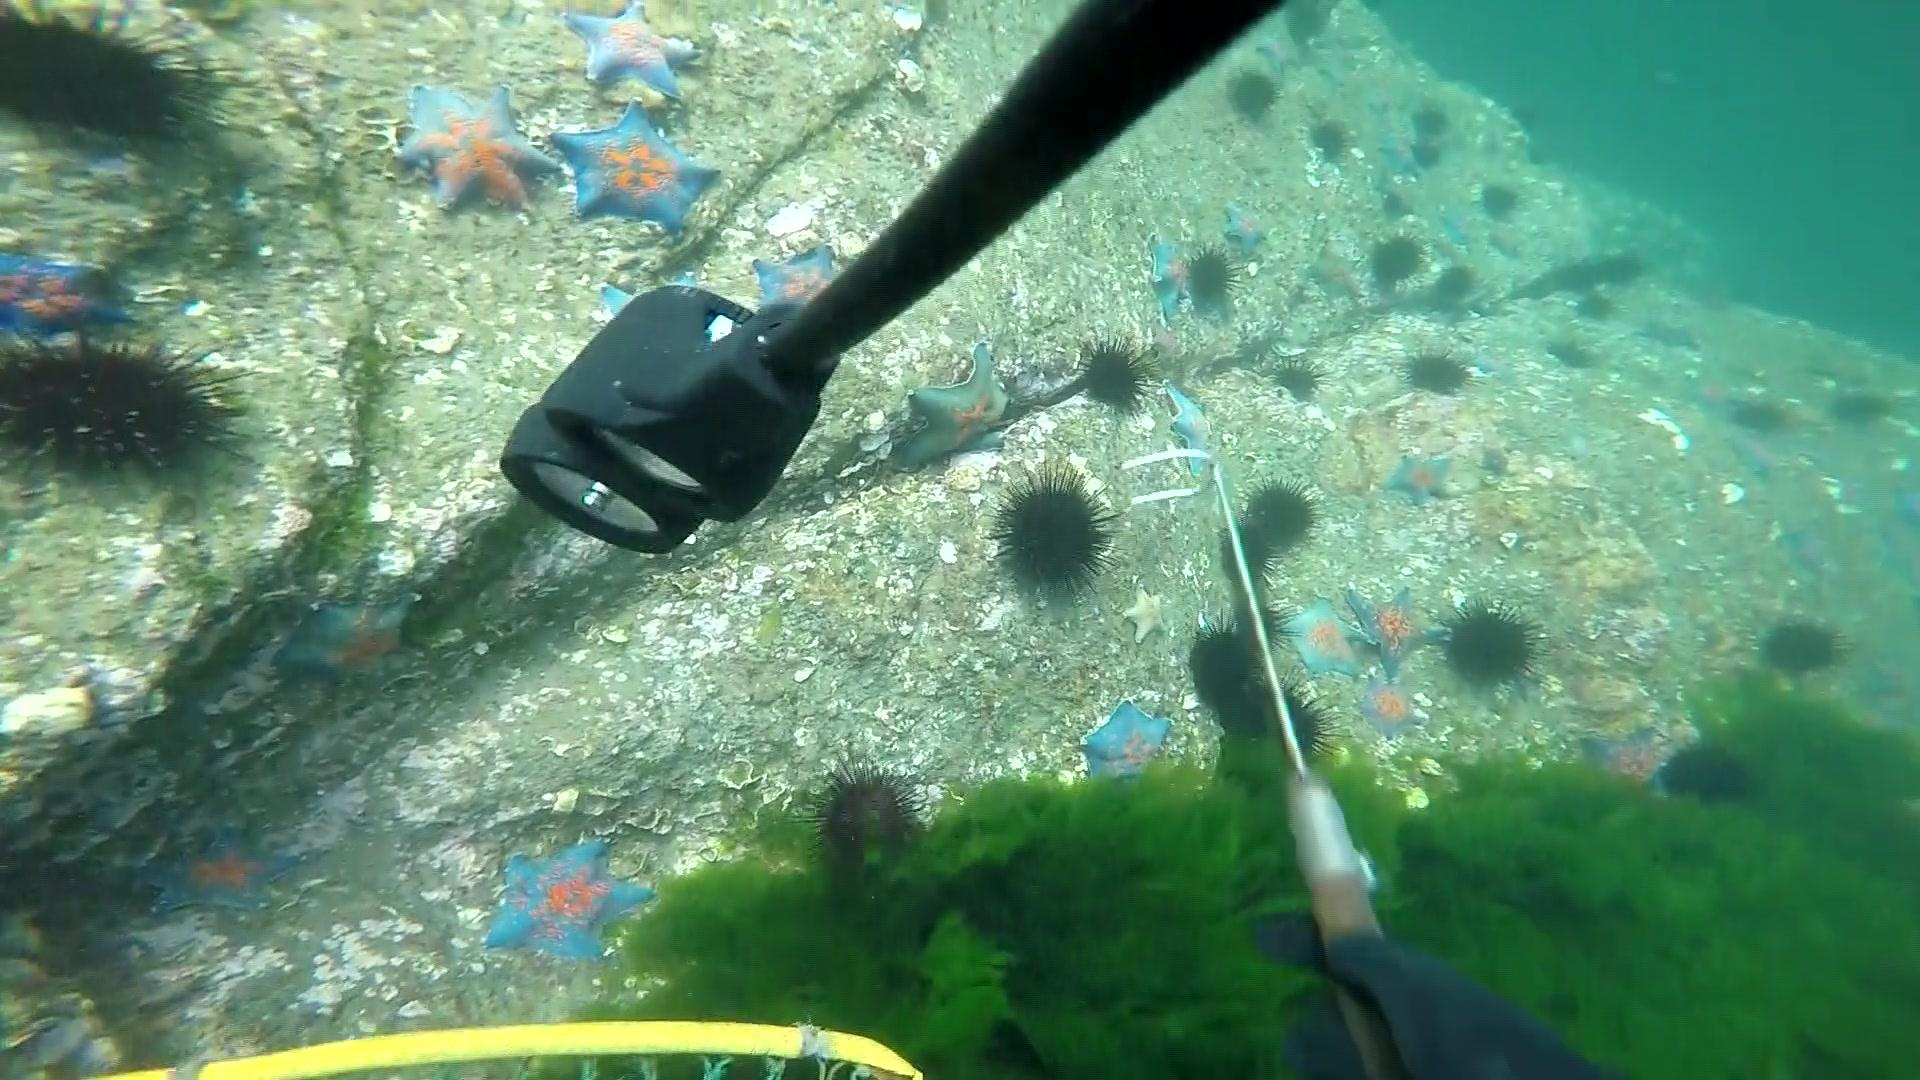echinus: (1, 327, 260, 487), (1, 1, 255, 156), (985, 458, 1133, 600), (785, 752, 931, 880), (1437, 591, 1553, 696), (1240, 465, 1331, 555), (1072, 331, 1167, 414), (1189, 607, 1269, 705), (1659, 735, 1758, 807), (1263, 686, 1346, 767), (1760, 617, 1857, 687), (1218, 673, 1288, 742), (1180, 239, 1247, 307), (1236, 596, 1308, 658), (1218, 520, 1282, 587), (1399, 345, 1482, 396), (1374, 232, 1433, 290), (1226, 67, 1287, 124), (1269, 353, 1335, 404), (1278, 3, 1346, 50), (1830, 389, 1895, 434), (1735, 398, 1792, 436), (1311, 120, 1354, 166), (1478, 182, 1524, 223), (1433, 265, 1474, 301), (1604, 253, 1644, 286), (1414, 105, 1452, 140), (1553, 338, 1592, 372), (1576, 291, 1615, 320), (1561, 262, 1594, 295), (1412, 142, 1444, 171), (1511, 105, 1539, 135), (1383, 193, 1406, 218)
starfish: (546, 94, 727, 236), (481, 831, 659, 969), (394, 78, 562, 218), (895, 339, 1015, 473), (137, 823, 310, 915), (560, 1, 711, 94), (1, 244, 137, 345), (593, 265, 760, 347), (278, 593, 414, 687), (1345, 580, 1449, 686), (1073, 695, 1179, 787), (1279, 592, 1378, 686), (749, 237, 852, 315), (1578, 723, 1669, 789), (1163, 381, 1218, 480), (1807, 425, 1884, 495), (1143, 229, 1196, 327), (1353, 673, 1419, 740), (1383, 448, 1456, 508), (1121, 582, 1174, 649), (1221, 203, 1271, 260), (1873, 524, 1920, 583), (1646, 307, 1705, 352), (1788, 524, 1836, 578), (1687, 382, 1731, 423), (1733, 435, 1776, 476), (1486, 223, 1532, 260), (1259, 40, 1303, 74), (1382, 113, 1424, 146), (1466, 349, 1516, 377), (1379, 144, 1422, 175), (1443, 208, 1476, 247), (1898, 487, 1920, 524)
